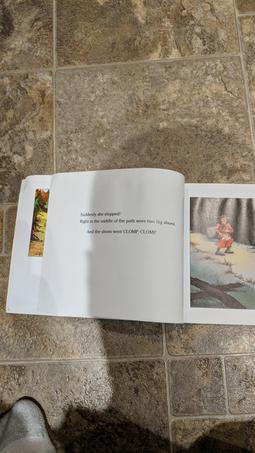text block: (72, 208, 179, 242)
